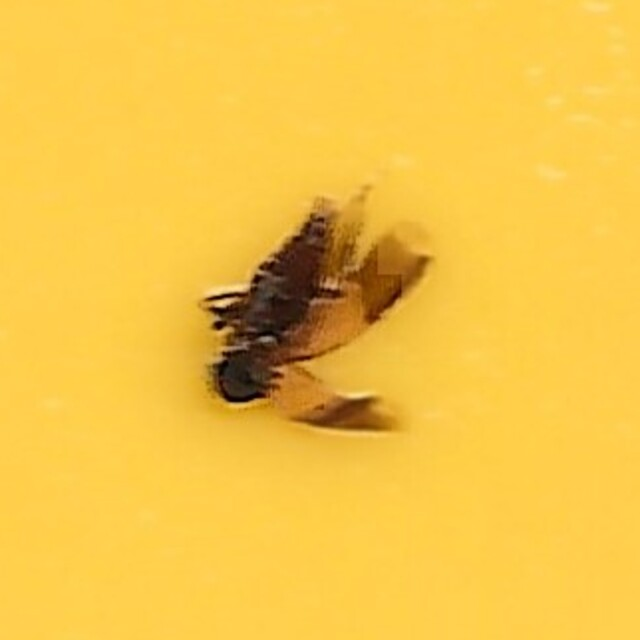Hemiptera: (199, 193, 441, 447)
